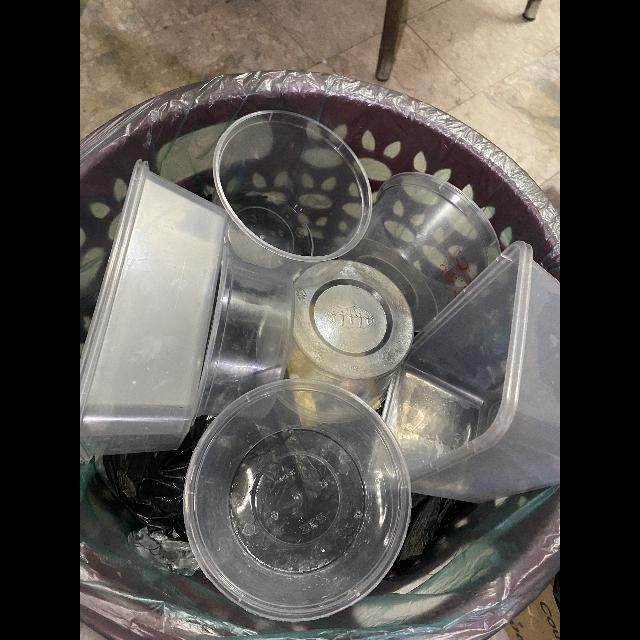plastic: (183, 379, 413, 623), (382, 241, 560, 505), (80, 160, 227, 467), (211, 110, 373, 275), (338, 172, 502, 333), (287, 260, 414, 410), (196, 244, 295, 418)
